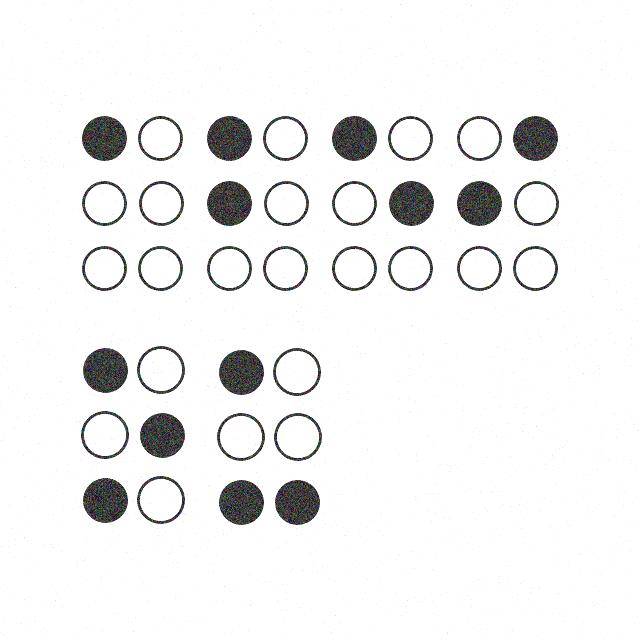A: (78, 110, 185, 293)
B: (203, 109, 311, 295)
E: (329, 110, 437, 294)
I: (453, 112, 566, 295)
O: (78, 343, 189, 528)
U: (215, 346, 322, 529)
